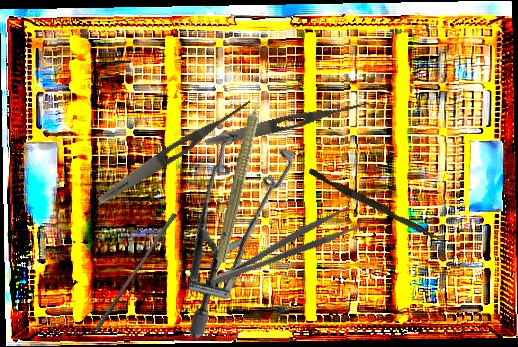Dressing Forceps: (94, 93, 255, 209), (203, 204, 362, 289), (203, 94, 371, 151)
Handpiece: (211, 81, 274, 266)
Pusher: (94, 209, 178, 335), (306, 167, 445, 243)
Speculum: (104, 104, 348, 341)
